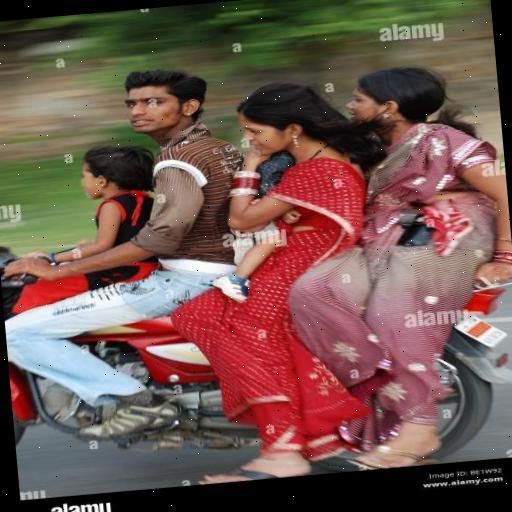no helmet: (89, 57, 228, 178)
triple riding: (0, 30, 512, 497)
